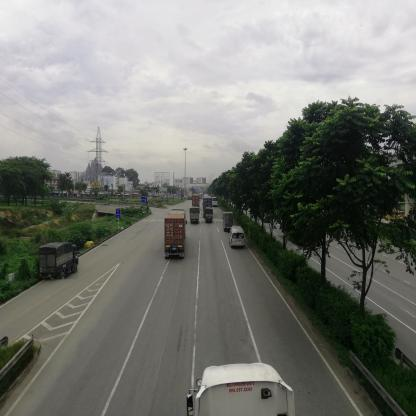car: (231, 226, 246, 249)
container: (166, 210, 187, 261), (205, 199, 214, 213), (193, 197, 200, 207)
truck: (41, 244, 80, 281), (223, 213, 233, 234), (192, 210, 201, 228), (205, 212, 215, 225)
